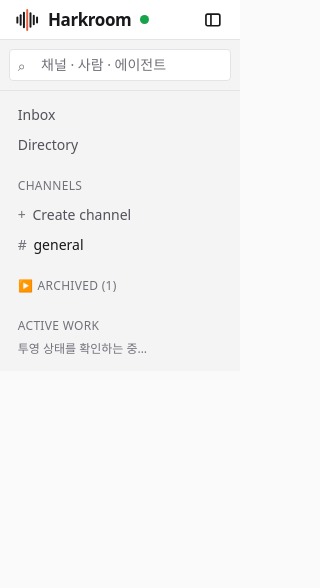
Test: 채널 삭제 UI (#155) › 메시지 수를 못 읽으면 개수를 지어내지 않고 확인 버튼도 없다
The width and height of the screenshot is (320, 588).
Click the button "▶ Archived (1)" at x=120, y=288, box x1=9 y1=277 x2=231 y2=300
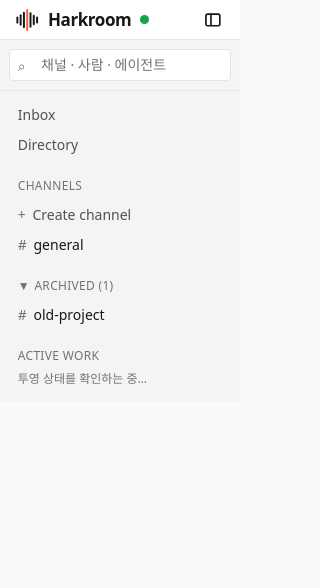
Right-click the button "# old-project" at x=120, y=314, box x1=9 y1=300 x2=231 y2=329
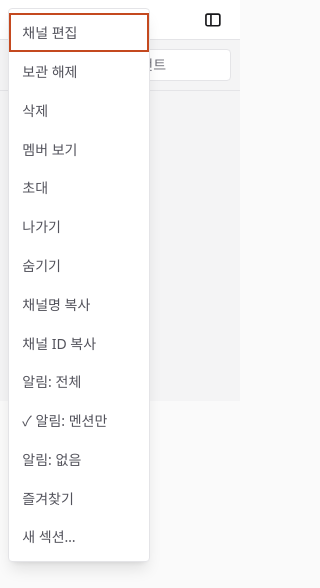
Click the menu item "삭제" at x=79, y=110, box x1=9 y1=91 x2=149 y2=130
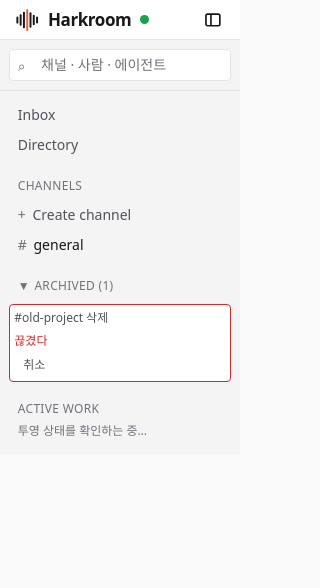
Expected: the message reads "끊겼다", x1=14 y1=332 x2=47 y2=349
